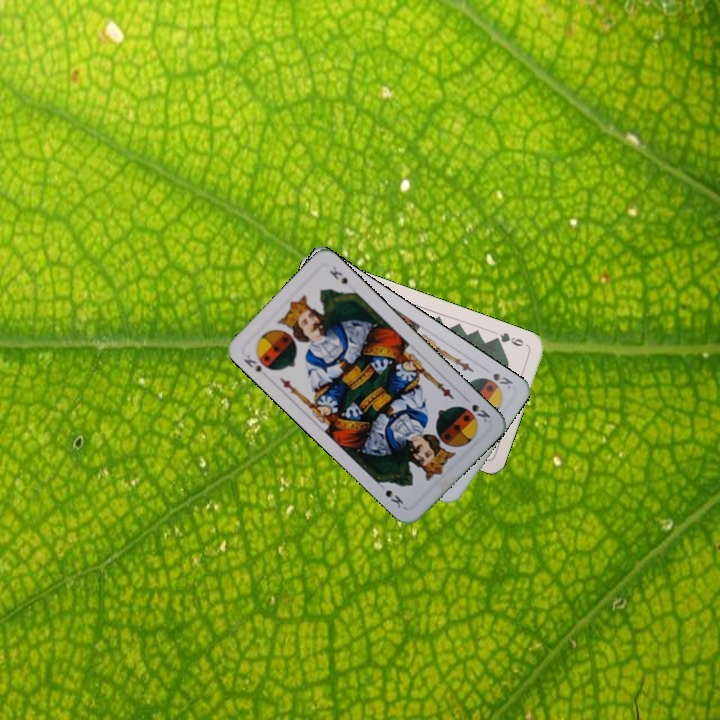G9: (490, 328, 530, 349)
SK: (468, 400, 493, 425), (239, 351, 265, 375), (489, 369, 516, 392)
